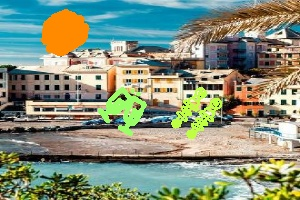两长挂件: (171, 88, 220, 144)
汉堡: (41, 12, 89, 55)
碰杯: (98, 88, 146, 135)
